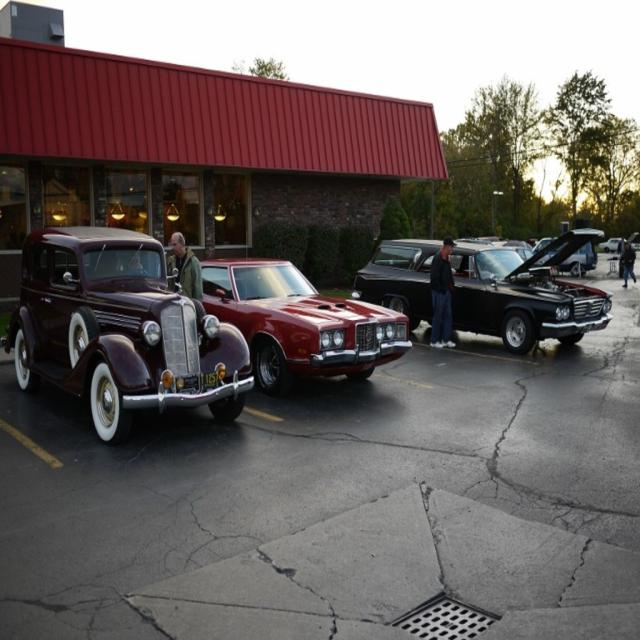car: (17, 221, 260, 447)
